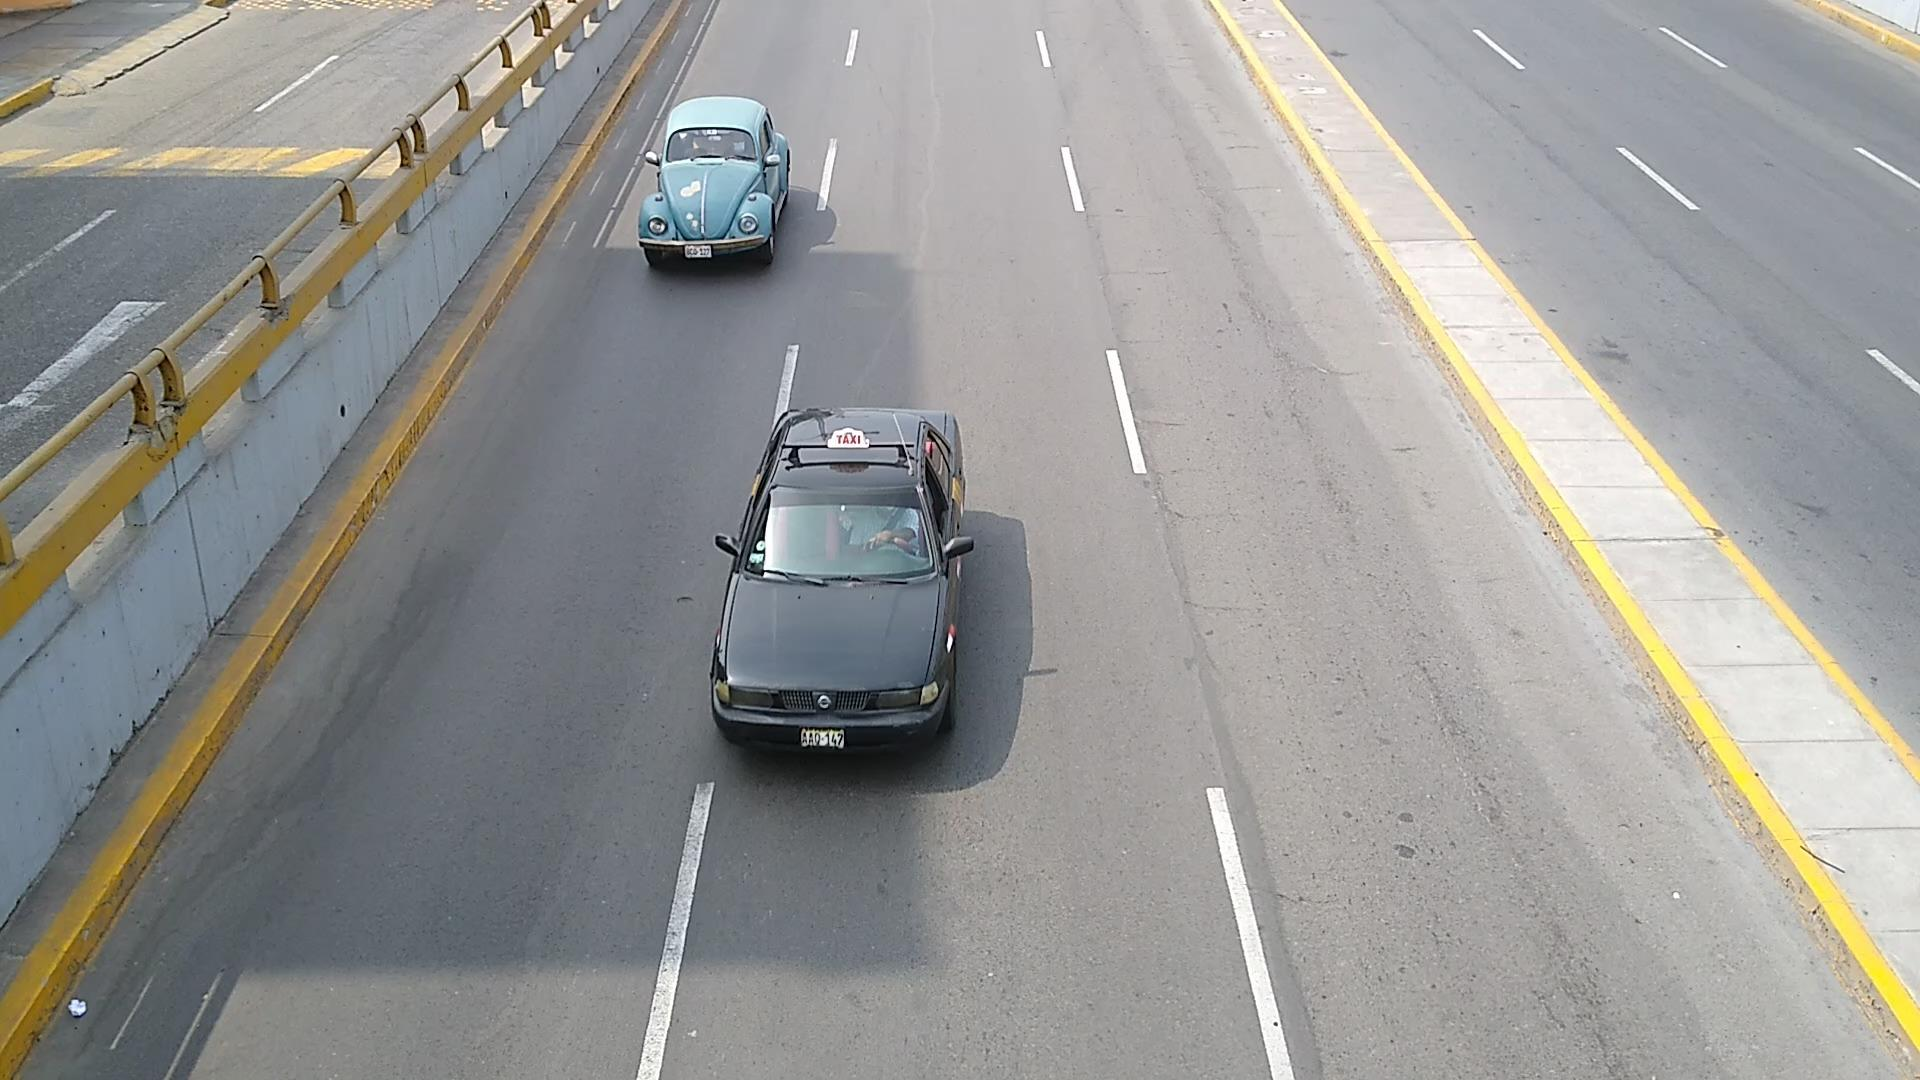car: (705, 405, 975, 761), (637, 98, 791, 262)
